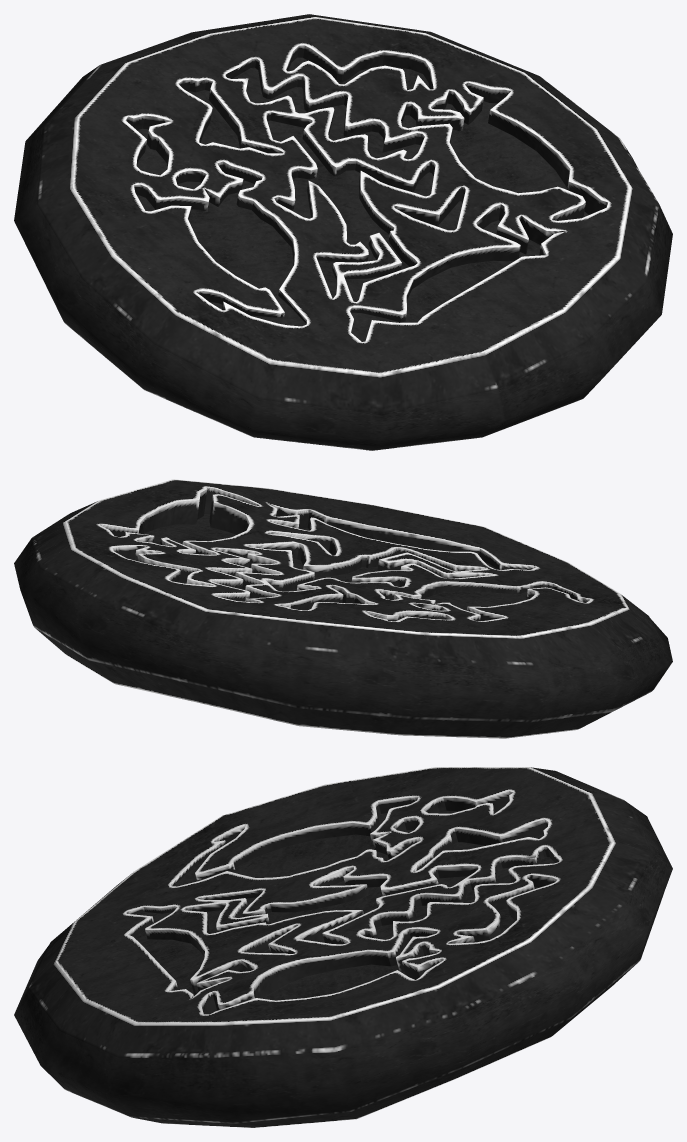
Rendered from Rune.glb.
The picture shows the model from 3 angles, top to bottom: view 1: azimuth 30°, elevation 25°; view 2: azimuth 150°, elevation 25°; view 3: azimuth 270°, elevation 25°; orthographic projection.
Visible parts, largest first — view 1: Stormfist.Small; view 2: Stormfist.Small; view 3: Stormfist.Small.
Part boxes in pixels (<box>): Stormfist.Small: <box>14,14,672,450</box>; Stormfist.Small: <box>14,479,672,738</box>; Stormfist.Small: <box>14,767,672,1127</box>.
Bounding box in the file's own units: 4.35 × 1.56 × 4.23.
Materials: 1 (1 with a texture image).
